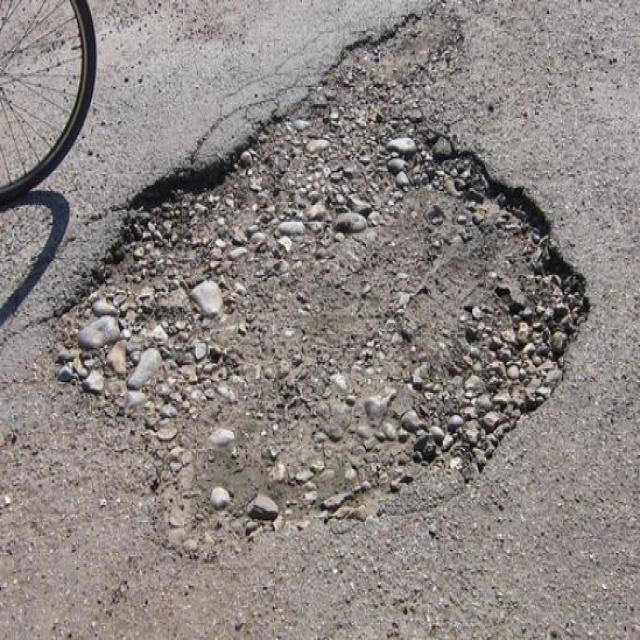Pothole: (42, 6, 596, 567)
